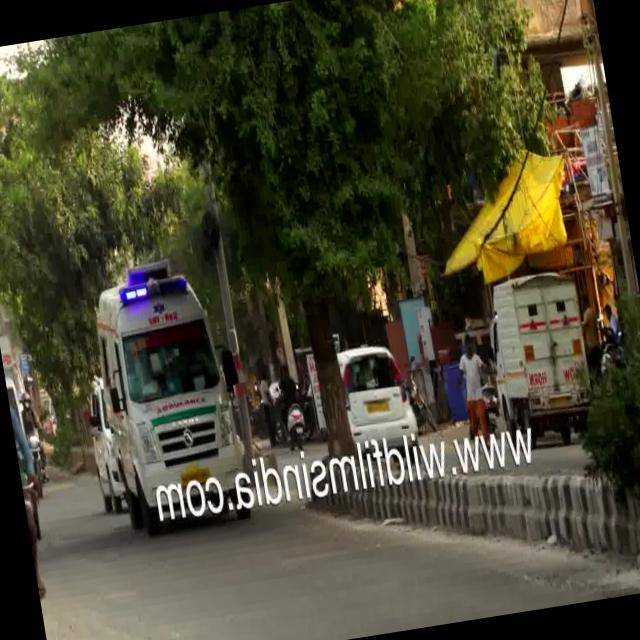ambulance: (81, 239, 252, 496)
